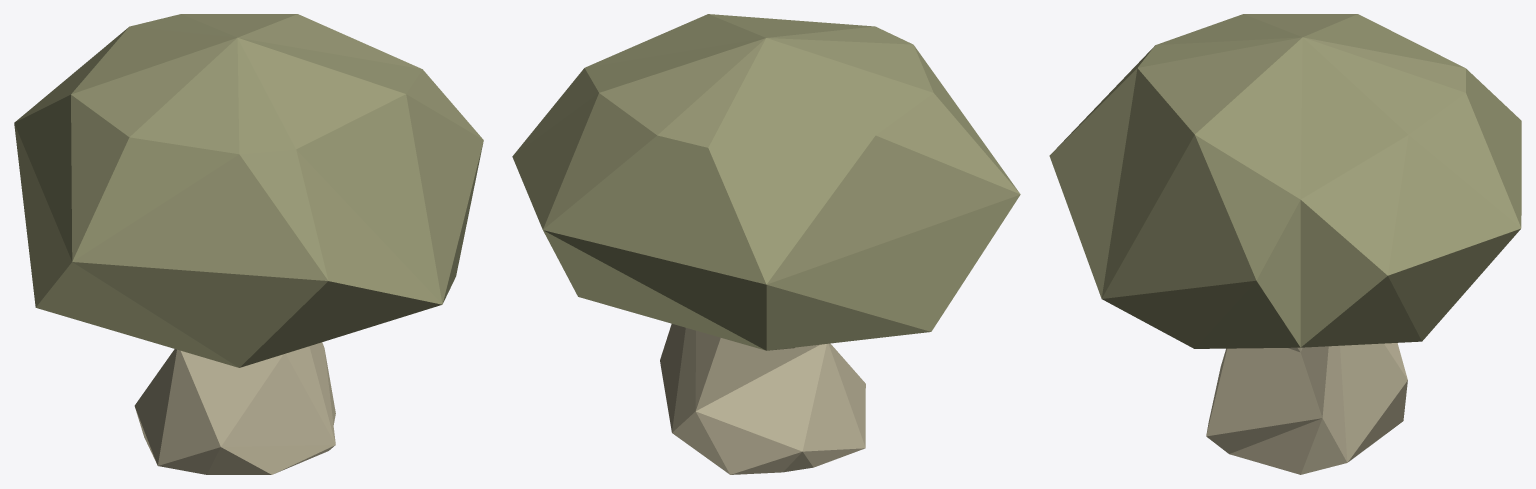
The model's file is mushroom02.fbx.
3 renders of one model, left to right at view 1: azimuth 30°, elevation 25°; view 2: azimuth 150°, elevation 25°; view 3: azimuth 270°, elevation 25°, orthographic.
Parts seen in each view (by area): view 1: revolvedSurface4; view 2: revolvedSurface4; view 3: revolvedSurface4.
Part boxes in pixels (x1=…): revolvedSurface4: x1=14, y1=14, x2=483, y2=474; revolvedSurface4: x1=512, y1=14, x2=1020, y2=474; revolvedSurface4: x1=1049, y1=14, x2=1521, y2=474.
Size of the model in its own units: 0.0678 by 0.0596 by 0.0652.
